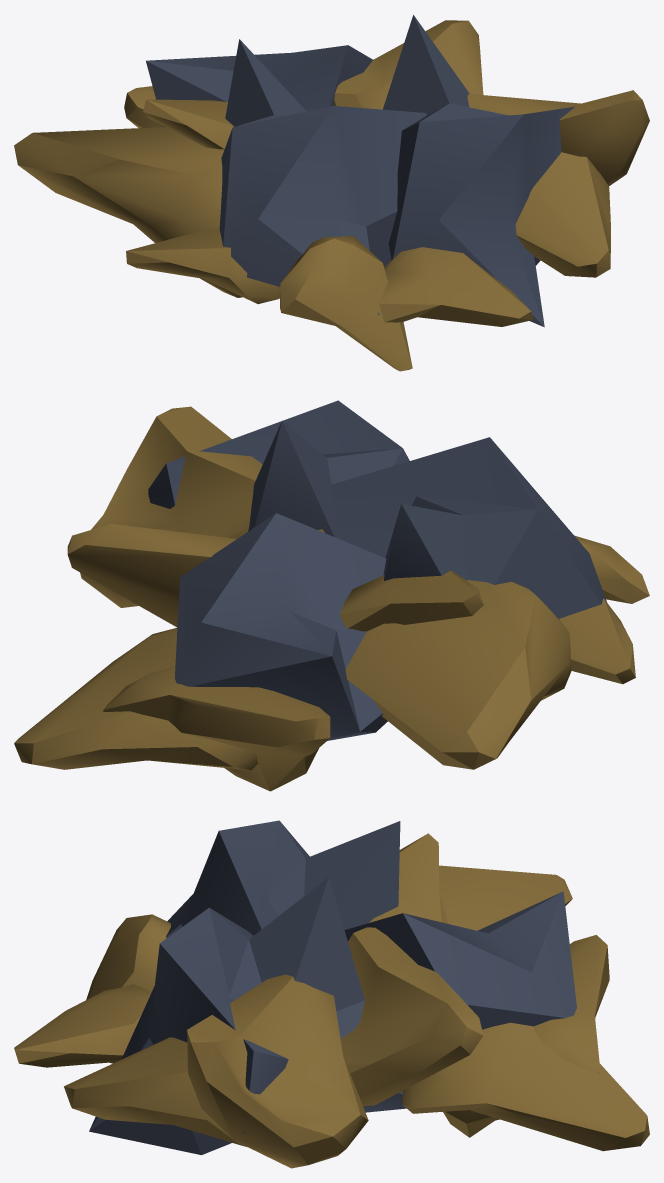
The model's file is Demir_Cevheri.fbx.
3 views of the same model, one above another, from view 1: azimuth 30°, elevation 25°; view 2: azimuth 150°, elevation 25°; view 3: azimuth 270°, elevation 25° (orthographic). The views are drawn at different scales.
Visible parts, largest first — view 1: Cube.003; view 2: Cube.003; view 3: Cube.003.
Part boxes in pixels (x1,y1,x2,y2): Cube.003: (14,15,649,371); Cube.003: (14,400,649,791); Cube.003: (14,820,649,1168).
Bounding box in the file's own units: 75.88 × 39.11 × 81.66.
